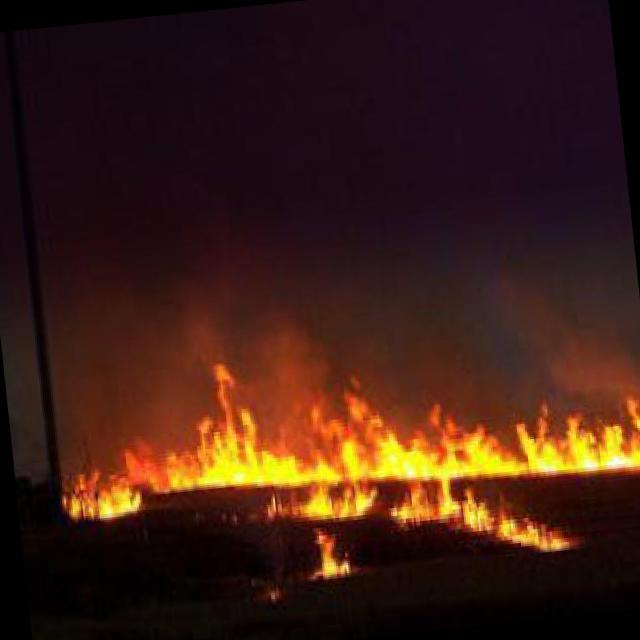Fire: (56, 308, 640, 622)
